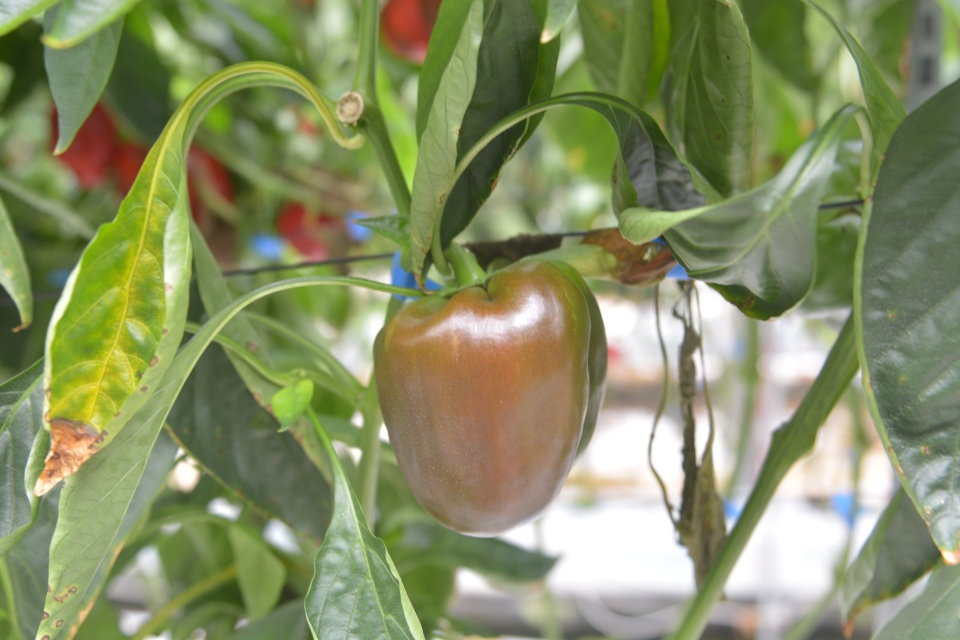fruit: (370, 254, 611, 540), (112, 140, 236, 262), (50, 96, 121, 190), (274, 196, 355, 262), (377, 0, 443, 64)
pedicle: (440, 268, 491, 294)
